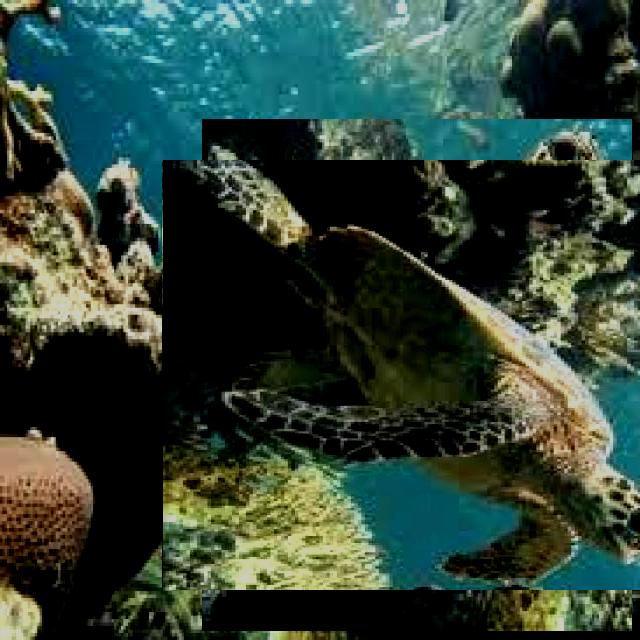Sea turtle: (181, 140, 640, 611)
